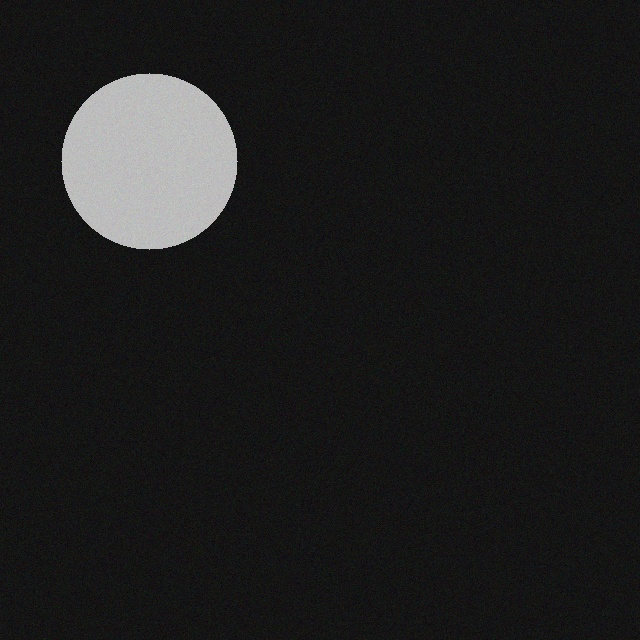circle: (50, 75, 226, 251)
